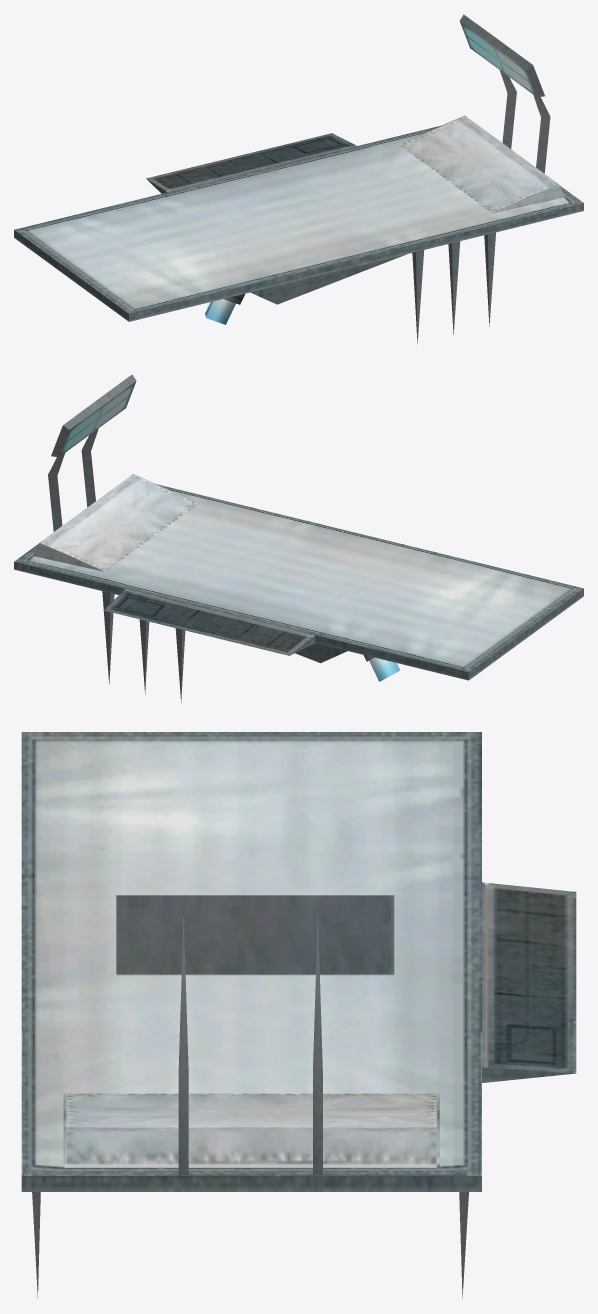
Rendered from eqp_camping_cot_s3_l1.fbx.
3 views of the same model, one above another, from view 1: azimuth 30°, elevation 25°; view 2: azimuth 150°, elevation 25°; view 3: azimuth 270°, elevation 25° (orthographic). The views are drawn at different scales.
Visible parts, largest first — view 1: mesh_node; view 2: mesh_node; view 3: mesh_node.
Boxes of the visible parts, bbox=[...] form: mesh_node: bbox=[14, 14, 583, 344]; mesh_node: bbox=[14, 374, 583, 702]; mesh_node: bbox=[21, 732, 576, 1298].
Size of the model in its own units: 1.97 by 0.9552 by 1.03.
